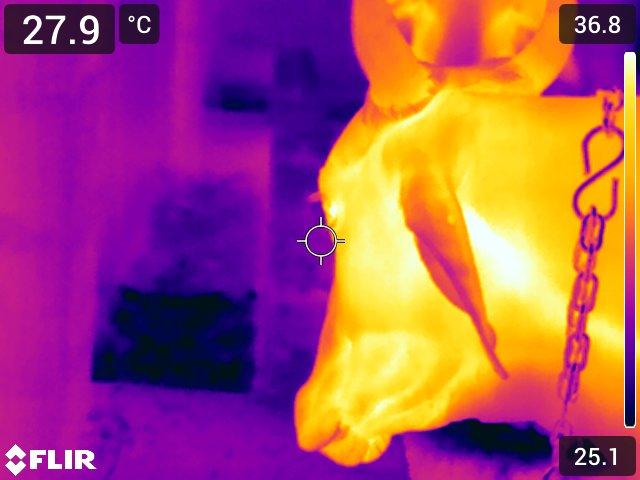ear: (385, 152, 506, 352)
neck: (552, 83, 618, 432)
